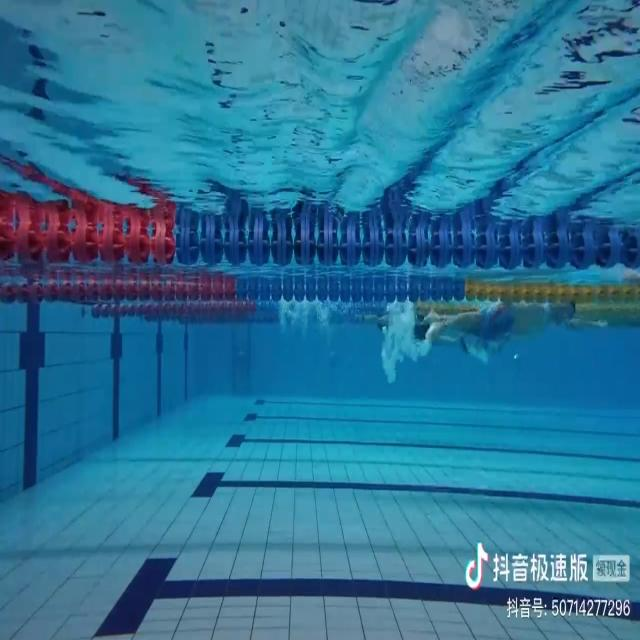Swimming: (420, 291, 608, 354)
